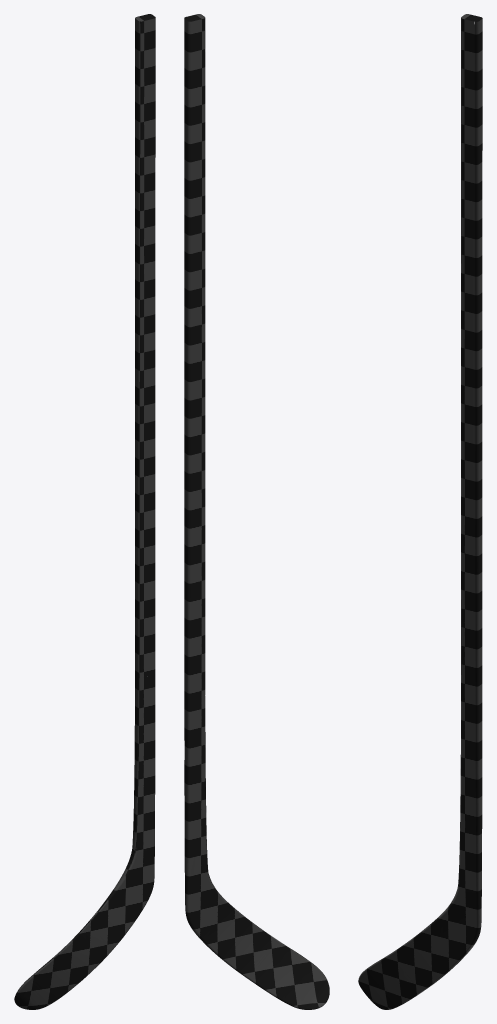
Rendered from YAK-65-ST.glb.
3 renders of one model, left to right at view 1: azimuth 30°, elevation 25°; view 2: azimuth 210°, elevation 25°; view 3: azimuth 330°, elevation 25°, orthographic. The views are drawn at different scales.
Parts seen in each view (by area): view 1: geometry_0; view 2: geometry_0; view 3: geometry_0.
Part boxes in pixels (bbox=[...]): geometry_0: bbox=[14, 14, 155, 1009]; geometry_0: bbox=[184, 14, 329, 1009]; geometry_0: bbox=[358, 14, 482, 1009].
Size of the model in its own units: 225 by 1650 by 55.36.
1 material, 1 textured.
